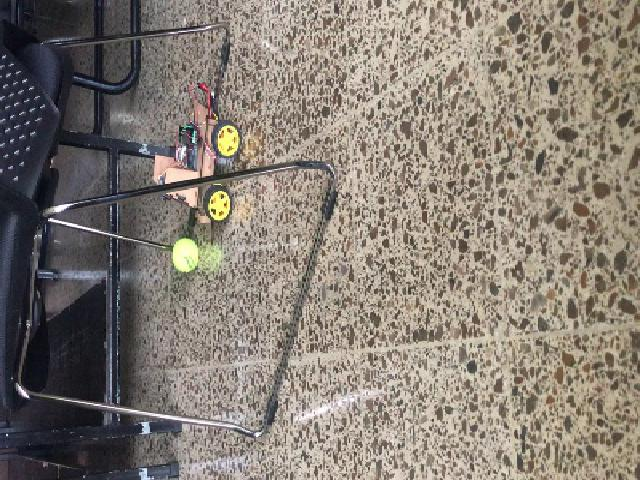Ball: (173, 238, 198, 272)
Robot: (152, 101, 242, 222)
